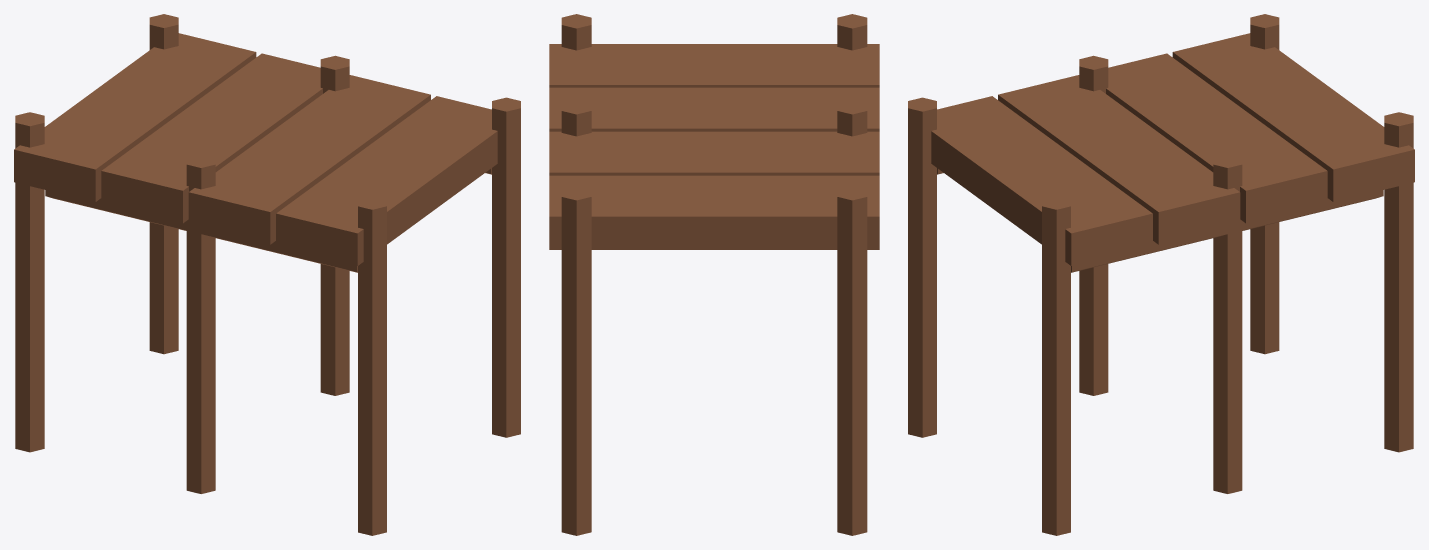
File: dock.glb
3 views of the same model, side by side, from view 1: azimuth 30°, elevation 25°; view 2: azimuth 150°, elevation 25°; view 3: azimuth 270°, elevation 25° (orthographic). The views are drawn at different scales.
Visible parts, largest first — view 1: Cube, Cylinder.001, Cylinder.002; view 2: Cube, Cylinder.001; view 3: Cube, Cylinder.001, Cylinder.002.
Boxes of the visible parts, <box> form: Cube: <box>14,33,497,265</box>; Cylinder.001: <box>15,14,520,535</box>; Cylinder.002: <box>45,168,491,272</box>; Cube: <box>549,44,879,249</box>; Cylinder.001: <box>561,14,867,535</box>; Cube: <box>931,33,1414,265</box>; Cylinder.001: <box>908,14,1413,535</box>; Cylinder.002: <box>937,168,1383,272</box>.
Bounding box in the file's own units: 2.97 × 2.24 × 3.16.
